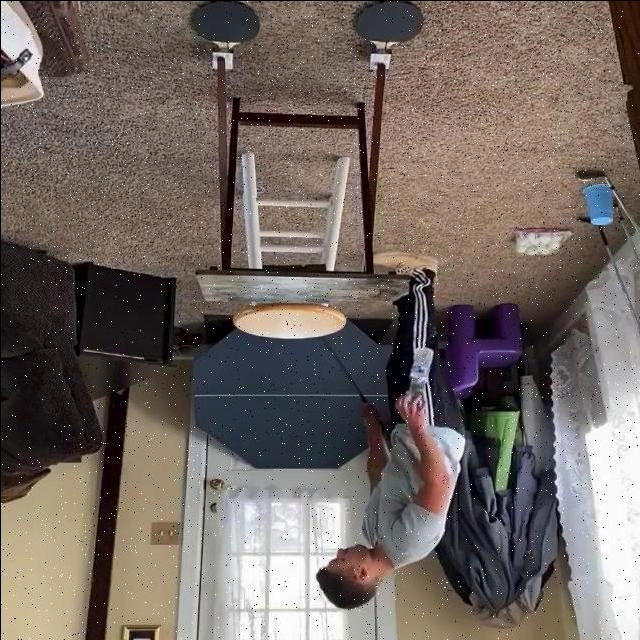ClubHandle: (315, 331, 386, 439)
